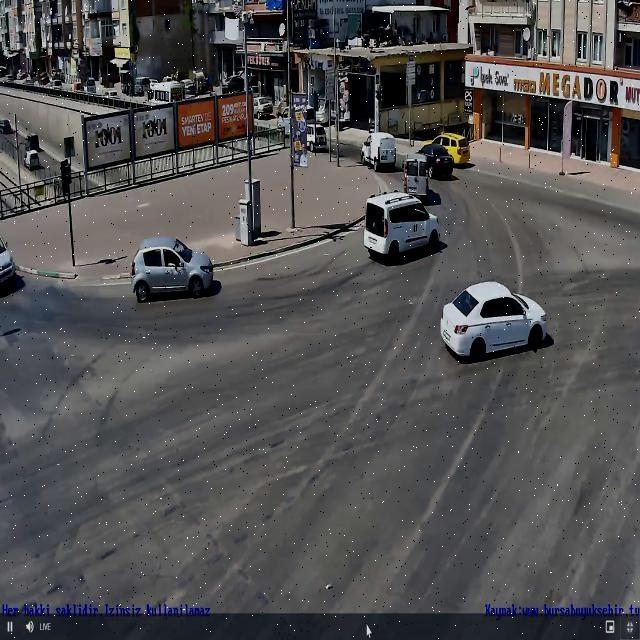Car: (439, 278, 546, 358), (132, 238, 212, 299), (431, 131, 470, 167), (416, 143, 454, 178)
Truck: (360, 192, 445, 256), (361, 133, 397, 169), (402, 152, 429, 196)
